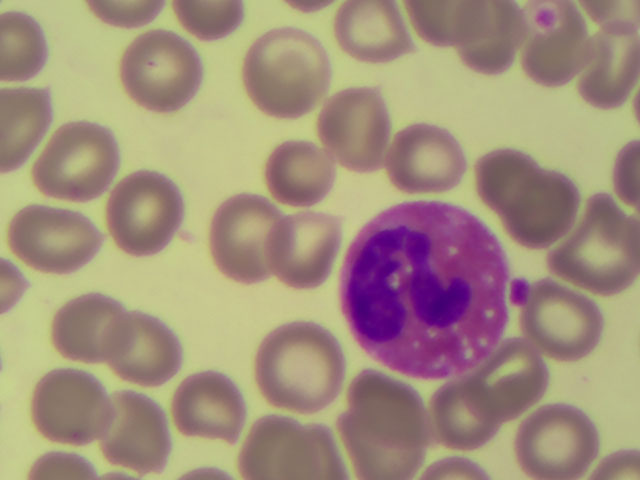Platelets: (537, 7, 558, 31), (512, 278, 529, 307)
RBC: (255, 322, 344, 413), (247, 24, 331, 119), (204, 194, 284, 282), (119, 29, 199, 113), (45, 120, 125, 198), (320, 86, 393, 170), (566, 205, 640, 287), (505, 165, 577, 249), (347, 379, 423, 458), (517, 407, 599, 479), (115, 171, 185, 255), (13, 205, 102, 271), (57, 294, 137, 364), (272, 204, 335, 289), (106, 314, 184, 382), (36, 375, 116, 440), (531, 283, 602, 356), (391, 123, 467, 191), (101, 393, 167, 471), (174, 375, 247, 443), (580, 23, 640, 105), (427, 380, 496, 449), (245, 418, 317, 480), (266, 141, 336, 204), (475, 148, 546, 210), (340, 1, 410, 62), (468, 1, 525, 72), (526, 31, 590, 88), (411, 1, 497, 42), (1, 87, 42, 167), (503, 343, 547, 411), (1, 12, 41, 75), (305, 416, 344, 480), (171, 1, 240, 35), (24, 449, 98, 480), (90, 1, 161, 29), (582, 1, 636, 36), (612, 138, 640, 199), (422, 459, 492, 478), (1, 259, 23, 310), (602, 451, 640, 480), (285, 1, 333, 16), (98, 468, 138, 480), (180, 471, 231, 480)
WBC: (350, 210, 505, 370)
